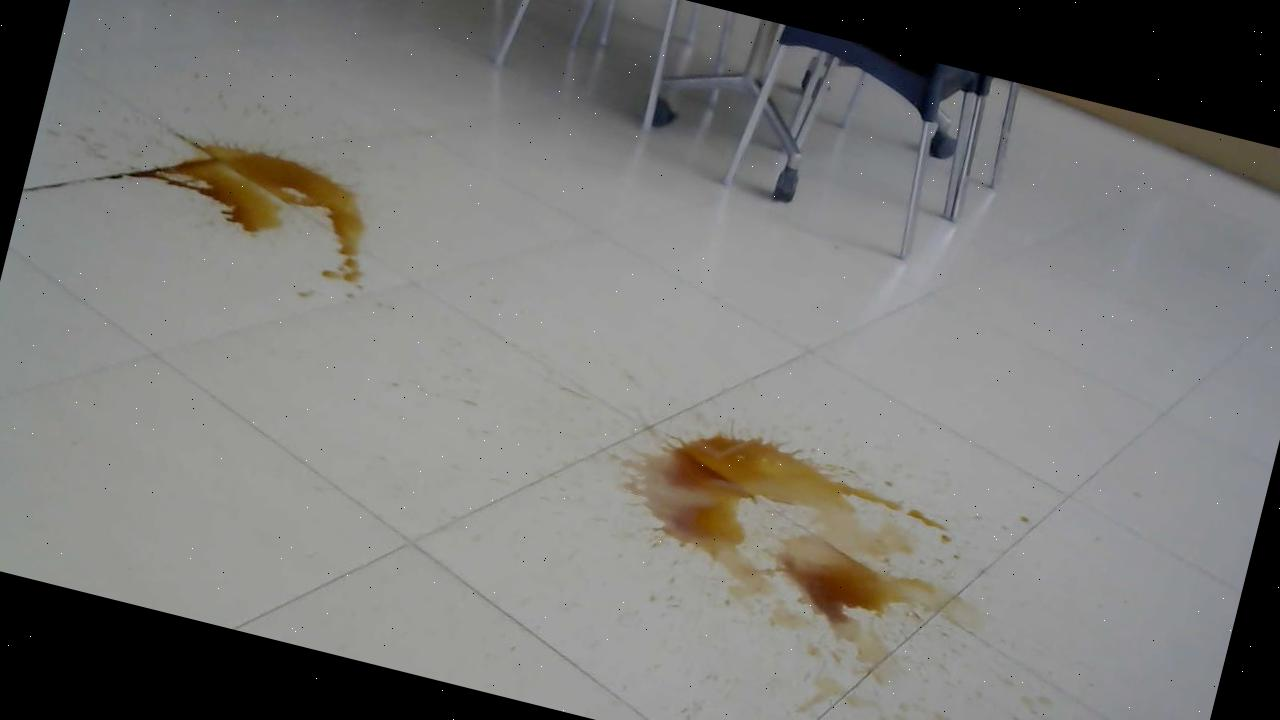dirty_floor: (554, 384, 1032, 703), (85, 96, 400, 299)
